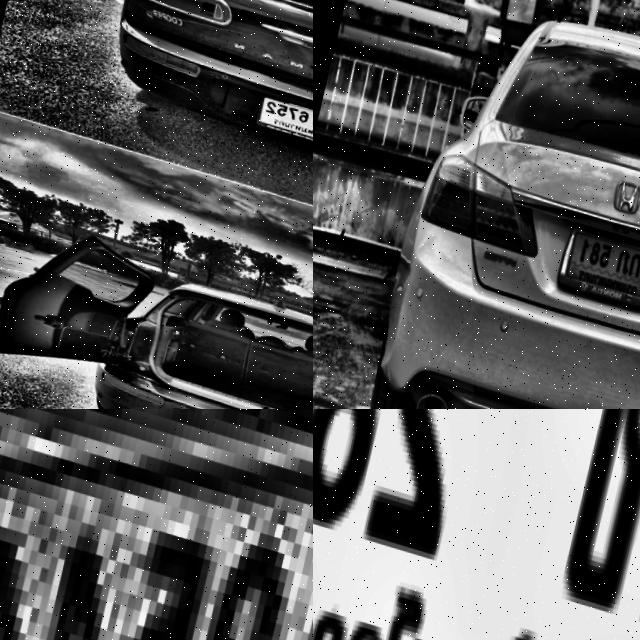license-plate: (313, 409, 640, 640), (0, 409, 313, 640), (554, 207, 640, 312), (256, 85, 313, 147)
